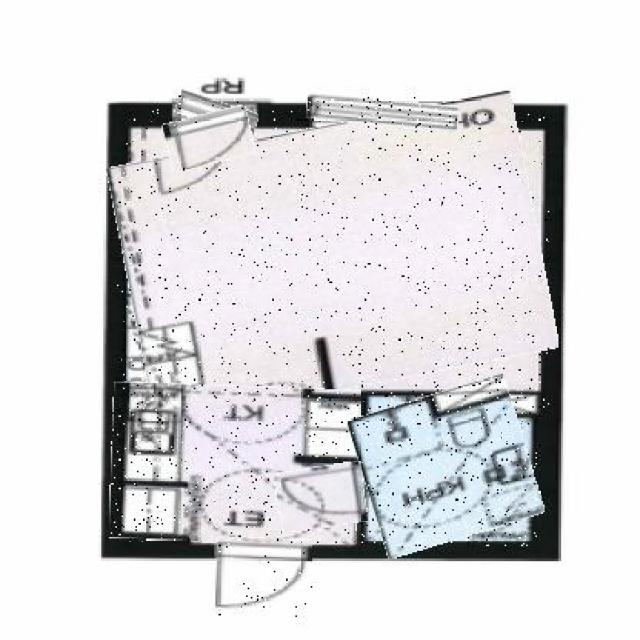door: (217, 538, 312, 624), (277, 463, 366, 529), (163, 109, 254, 168)
window: (306, 97, 459, 128), (175, 95, 257, 131)
zone: (117, 109, 549, 408), (111, 385, 358, 543), (355, 383, 537, 549)
